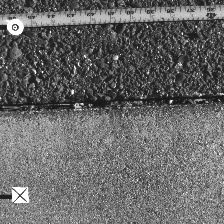circle: (6, 18, 24, 35)
crack: (1, 96, 223, 111)
square: (11, 186, 29, 203)
